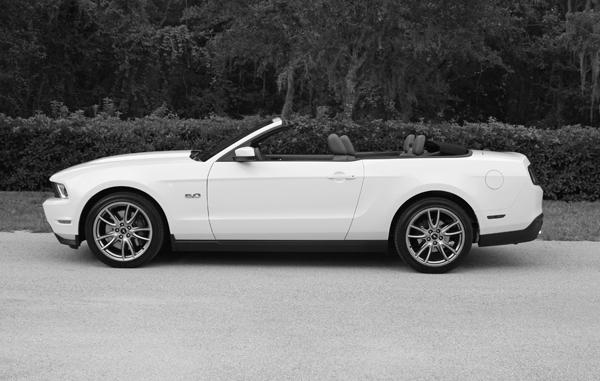car: (41, 113, 549, 279)
